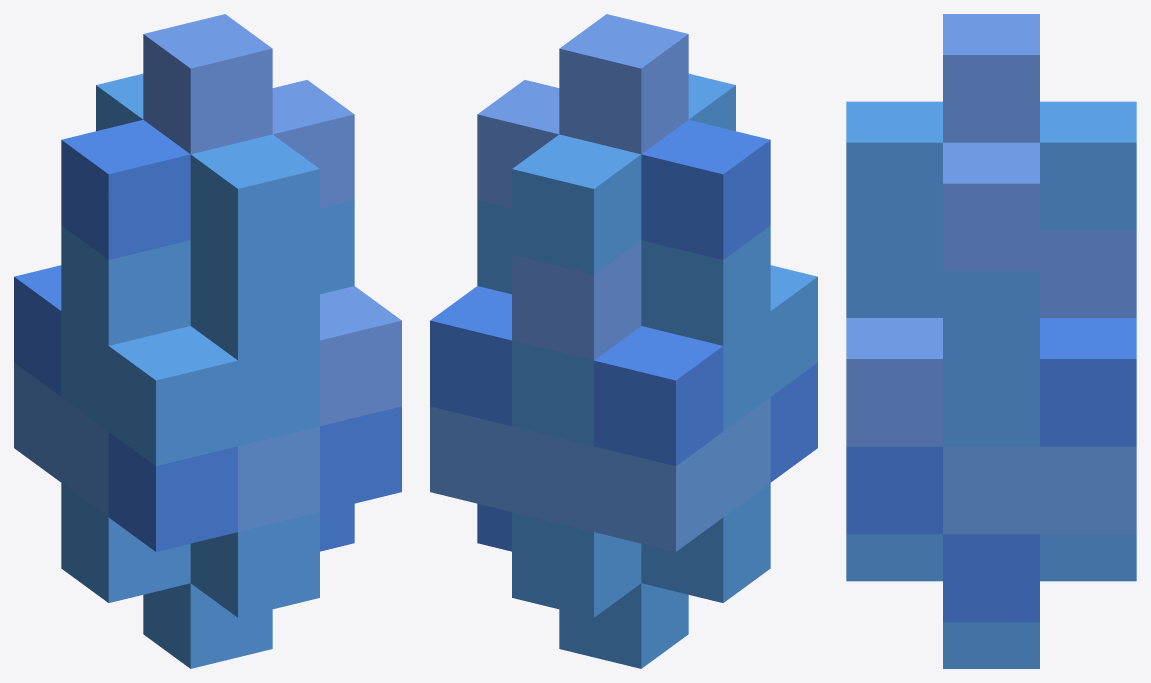
The model's file is Polar Mage Tower Crystal.obj.
The picture shows the model from 3 angles, left to right: view 1: azimuth 30°, elevation 25°; view 2: azimuth 150°, elevation 25°; view 3: azimuth 270°, elevation 25°; orthographic projection. The views are drawn at different scales.
Bounding box in the file's own units: 0.3 × 0.7 × 0.3.
1 material, 1 textured.
